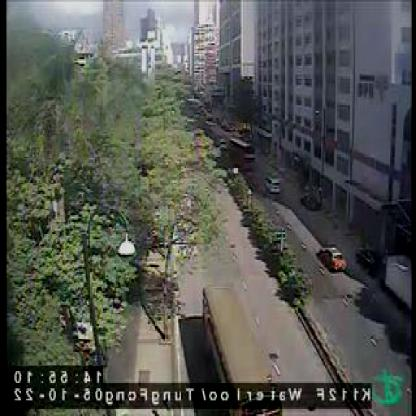Bus: (229, 137, 255, 172)
Car: (324, 244, 346, 270), (267, 173, 282, 194)
